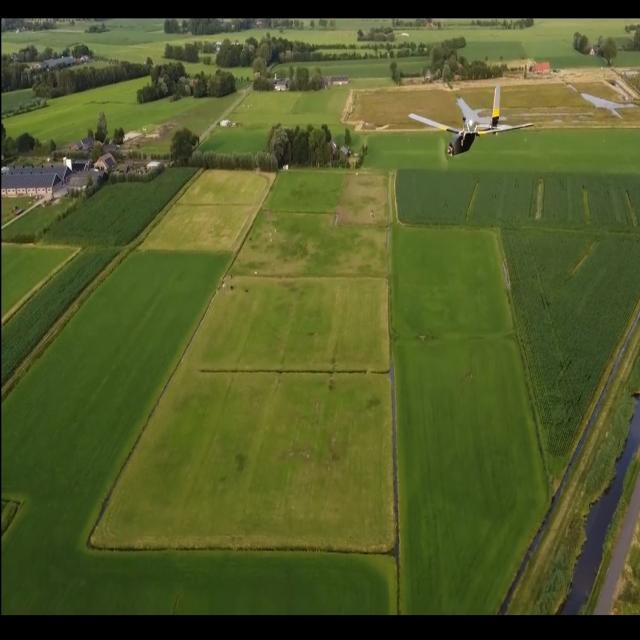iha: (440, 53, 503, 58)
